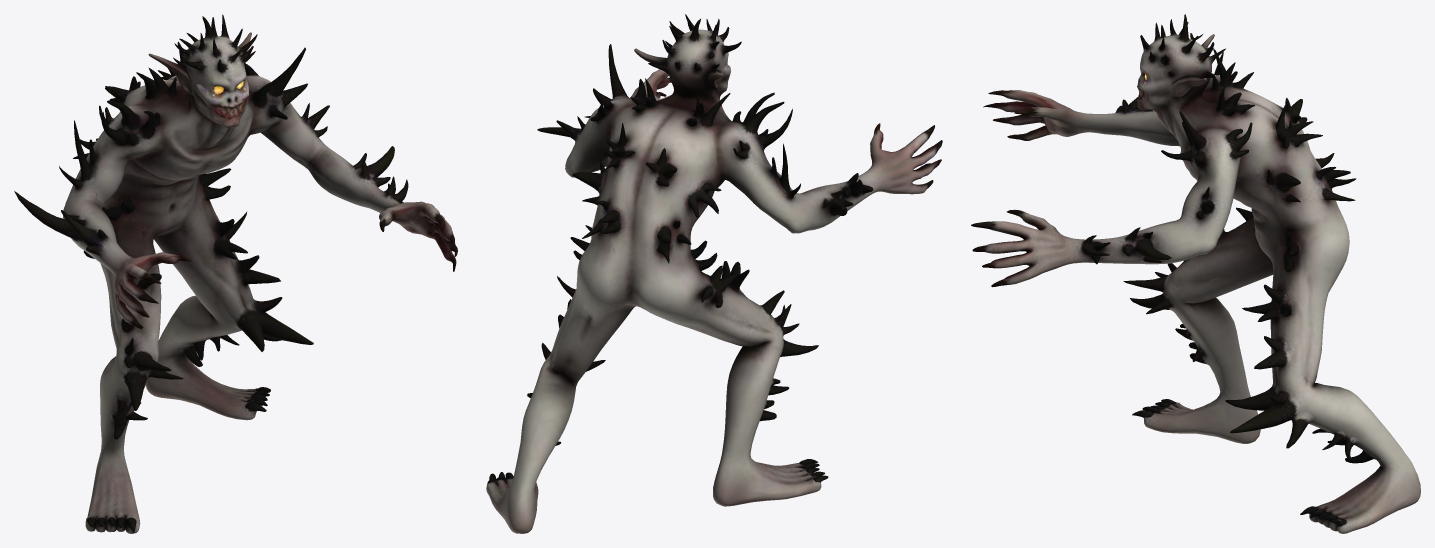
File: MZ4250 - Starspawn Grue.glb
3 views of the same model, side by side, from view 1: azimuth 30°, elevation 25°; view 2: azimuth 150°, elevation 25°; view 3: azimuth 270°, elevation 25° (orthographic). The views are drawn at different scales.
Parts seen in each view (by area): view 1: FEEETTT.001; view 2: FEEETTT.001; view 3: FEEETTT.001.
Part boxes in pixels (x1,y1,x2,y2): FEEETTT.001: (14,14,457,533); FEEETTT.001: (486,14,942,533); FEEETTT.001: (971,14,1420,533).
Bounding box in the file's own units: 0.6906 × 0.9044 × 0.8087.
1 material, 1 textured.
